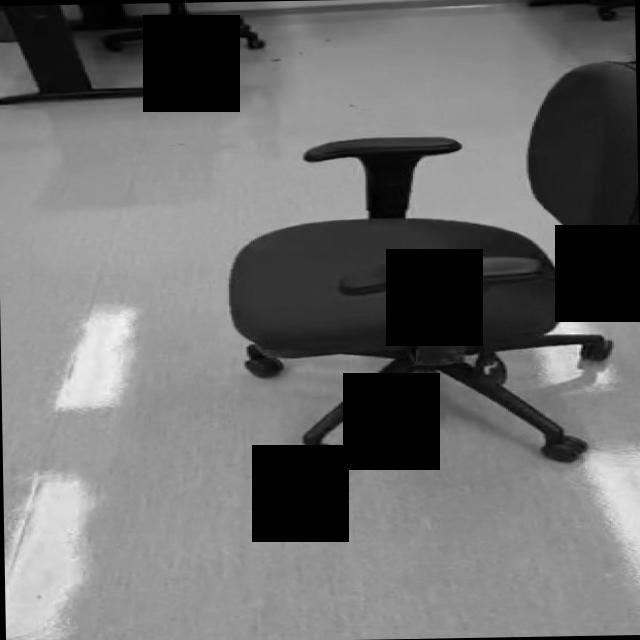chair: (220, 60, 640, 471)
